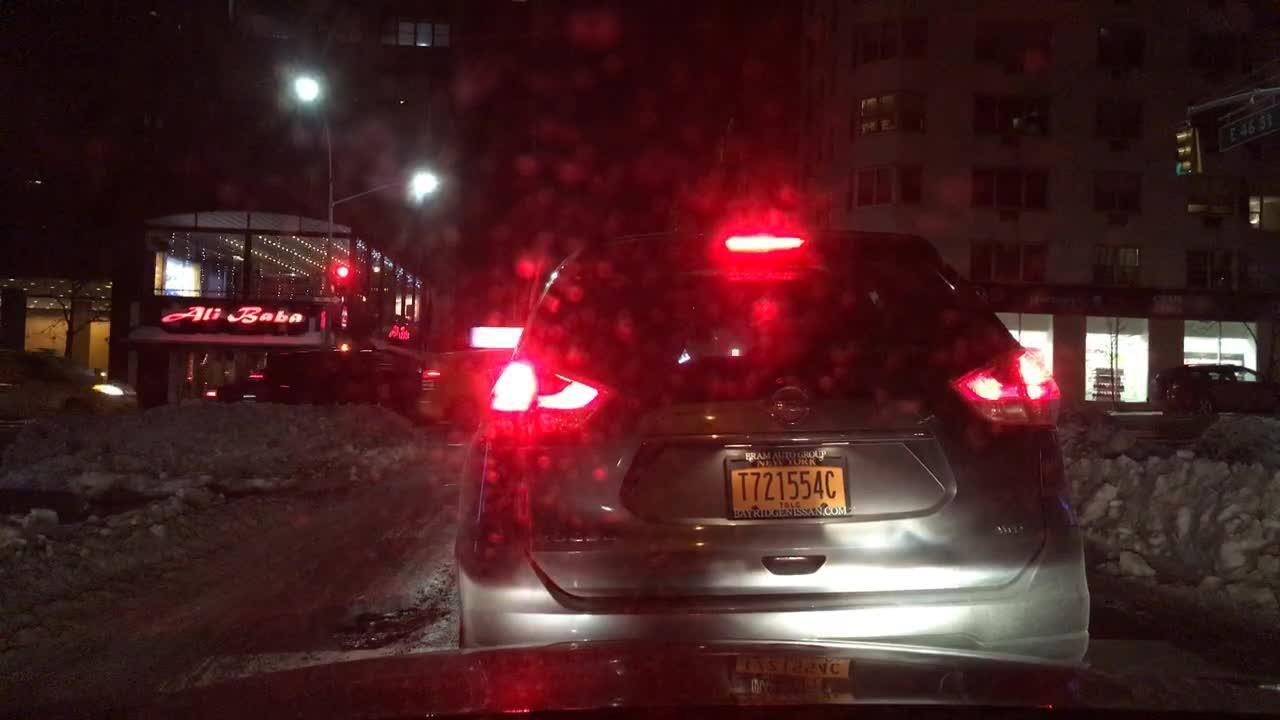Nissan: (757, 377, 823, 439)
